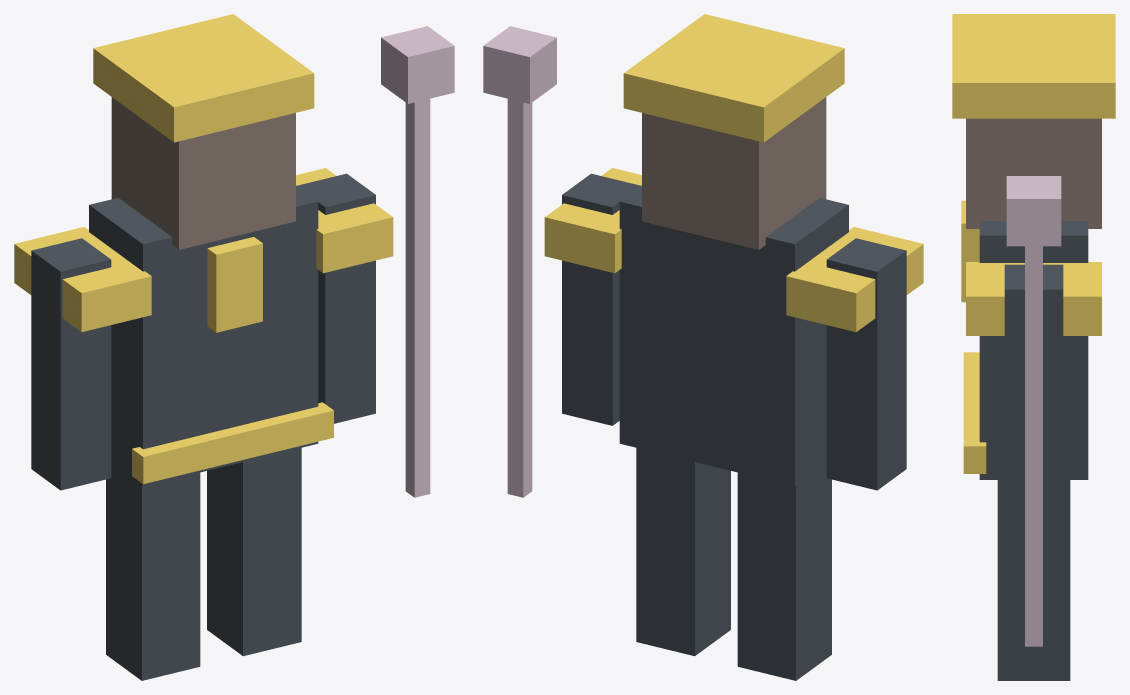
The model's file is 02_tamsin_skyharrow_tactician_near_arrival.glb.
3 renders of one model, left to right at view 1: azimuth 30°, elevation 25°; view 2: azimuth 150°, elevation 25°; view 3: azimuth 270°, elevation 25°, orthographic.
Visible parts, largest first — view 1: Tamsin Skyharrow, Tactician near Arrival; view 2: Tamsin Skyharrow, Tactician near Arrival; view 3: Tamsin Skyharrow, Tactician near Arrival.
Boxes of the visible parts, box(x1,y1,x2,y2) form: Tamsin Skyharrow, Tactician near Arrival: box(14, 14, 454, 680); Tamsin Skyharrow, Tactician near Arrival: box(483, 14, 923, 680); Tamsin Skyharrow, Tactician near Arrival: box(952, 14, 1115, 680).
Bounding box in the file's own units: 1.03 × 1.47 × 0.3659.
